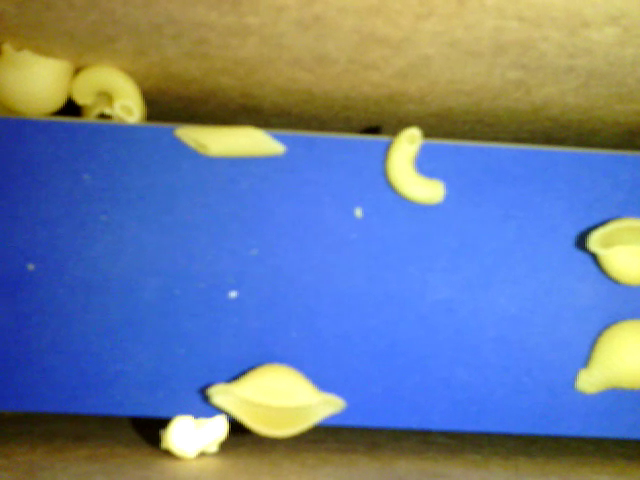elbow: (380, 126, 445, 205), (68, 63, 144, 124)
penne: (176, 126, 286, 156)
shell: (206, 361, 348, 437), (1, 44, 74, 117), (575, 318, 639, 393), (585, 215, 639, 289)
